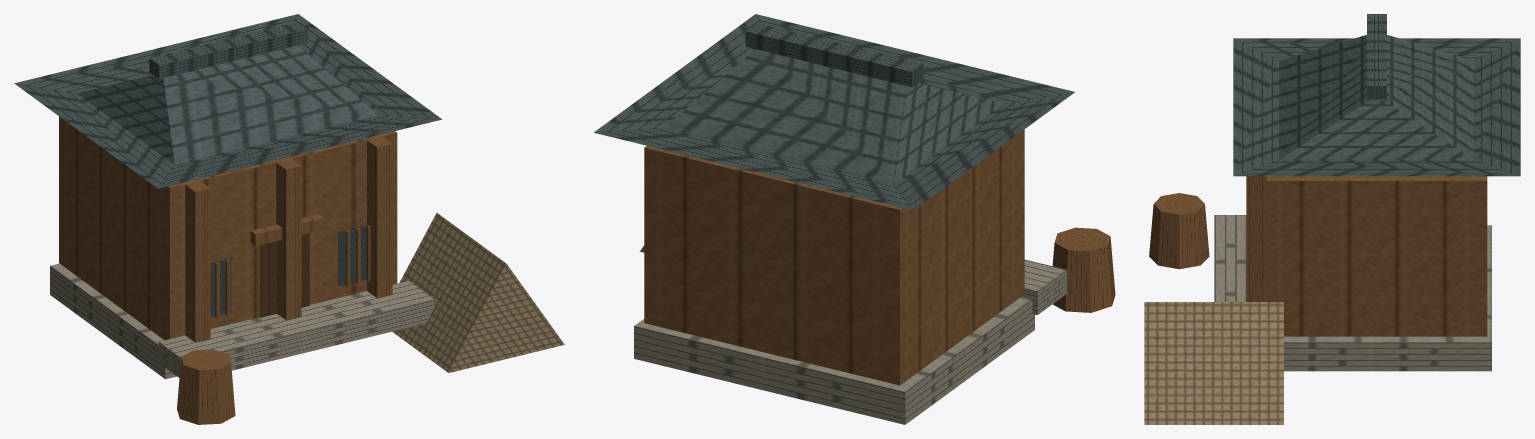
File: domestic-BARRACKS-1-lod0.glb
3 renders of one model, left to right at view 1: azimuth 30°, elevation 25°; view 2: azimuth 150°, elevation 25°; view 3: azimuth 270°, elevation 25°, orthographic. The views are drawn at different scales.
Bounding box in the file's own units: 0.727 × 0.509 × 0.647.
1 material, 1 textured.
